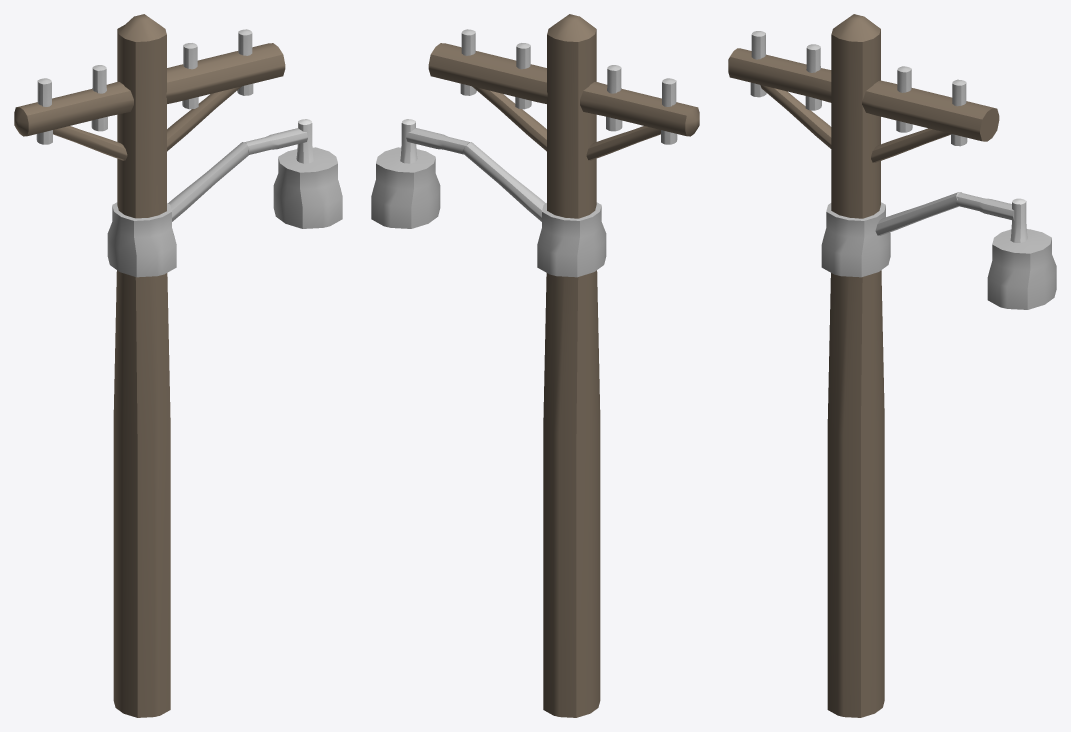
The model's file is poste con lampara 1.fbx.
3 renders of one model, left to right at view 1: azimuth 30°, elevation 25°; view 2: azimuth 150°, elevation 25°; view 3: azimuth 330°, elevation 25°, orthographic.
Parts seen in each view (by area): view 1: polySurface11, polySurface5, polySurface18, polySurface13, polySurface15, polySurface10, polySurface7, polySurface16, polySurface3, polySurface6, polySurface17, polySurface9 (+1 smaller); view 2: polySurface11, polySurface5, polySurface18, polySurface13, polySurface15, polySurface10, polySurface7, polySurface16, polySurface3, polySurface6, polySurface17, polySurface9 (+1 smaller); view 3: polySurface11, polySurface5, polySurface18, polySurface13, polySurface15, polySurface7, polySurface10, polySurface16, polySurface17, polySurface3, polySurface6, polySurface9 (+1 smaller).
Boxes of the visible parts, bbox=[...] form: polySurface11: bbox=[113, 14, 170, 717]; polySurface5: bbox=[14, 43, 285, 136]; polySurface18: bbox=[273, 147, 342, 228]; polySurface13: bbox=[107, 202, 176, 277]; polySurface15: bbox=[168, 142, 249, 221]; polySurface10: bbox=[167, 86, 241, 151]; polySurface7: bbox=[53, 126, 127, 160]; polySurface16: bbox=[244, 128, 307, 154]; polySurface3: bbox=[91, 65, 107, 131]; polySurface6: bbox=[36, 78, 52, 144]; polySurface17: bbox=[296, 119, 313, 163]; polySurface9: bbox=[182, 43, 198, 109]; polySurface11: bbox=[543, 14, 600, 717]; polySurface5: bbox=[428, 43, 699, 136]; polySurface18: bbox=[371, 147, 440, 228]; polySurface13: bbox=[537, 202, 606, 277]; polySurface15: bbox=[462, 142, 545, 221]; polySurface10: bbox=[472, 86, 546, 151]; polySurface7: bbox=[586, 126, 660, 160]; polySurface16: bbox=[406, 128, 469, 154]; polySurface3: bbox=[606, 65, 622, 131]; polySurface6: bbox=[661, 78, 677, 144]; polySurface17: bbox=[400, 119, 417, 163]; polySurface9: bbox=[515, 43, 531, 109]; polySurface11: bbox=[827, 14, 884, 717]; polySurface5: bbox=[728, 48, 999, 141]; polySurface18: bbox=[987, 229, 1056, 309]; polySurface13: bbox=[821, 202, 890, 277]; polySurface15: bbox=[875, 192, 961, 235]; polySurface7: bbox=[760, 85, 831, 148]; polySurface10: bbox=[871, 128, 950, 162]; polySurface16: bbox=[956, 193, 1014, 220]; polySurface17: bbox=[1010, 198, 1027, 242]; polySurface3: bbox=[805, 44, 821, 110]; polySurface6: bbox=[750, 31, 766, 97]; polySurface9: bbox=[896, 66, 912, 132].
Bounding box in the file's own units: 2.42 × 4.98 × 0.4866.
